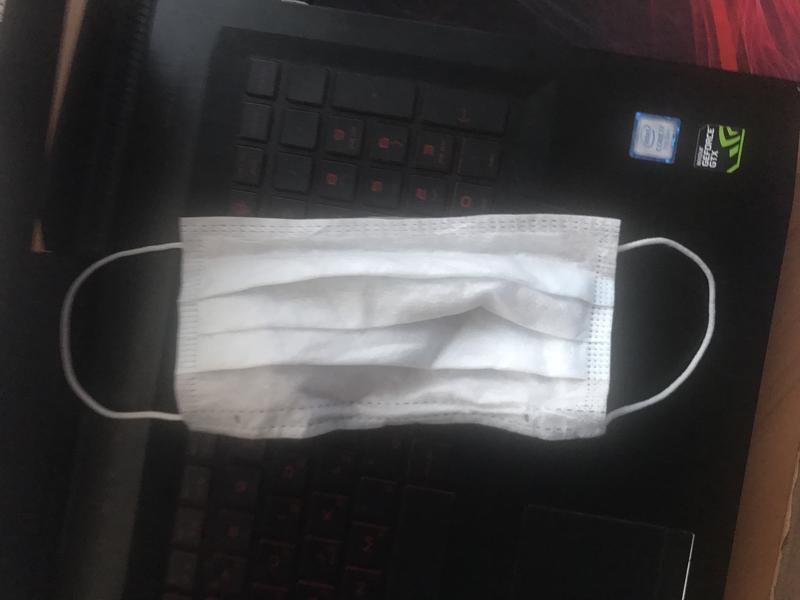medical_mask: (59, 214, 717, 441)
